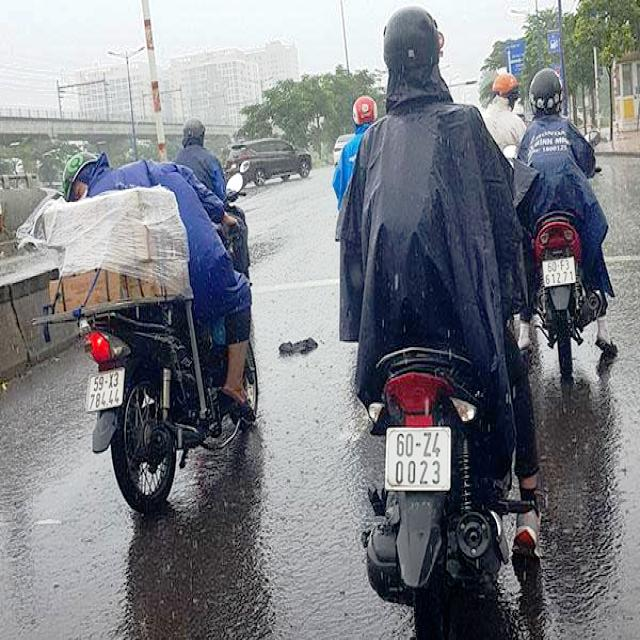license_plate: (386, 428, 450, 490), (90, 366, 126, 412), (545, 255, 576, 288)
